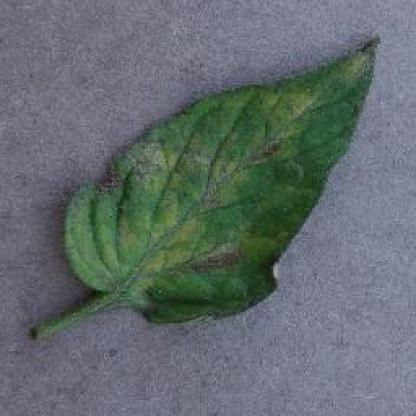bad leaf: (23, 27, 394, 378)
